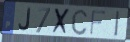7: (36, 7, 52, 34)
C: (70, 8, 89, 37)
F: (89, 10, 108, 37)
I: (114, 10, 121, 38)
J: (18, 7, 32, 32)
X: (51, 7, 72, 36)
